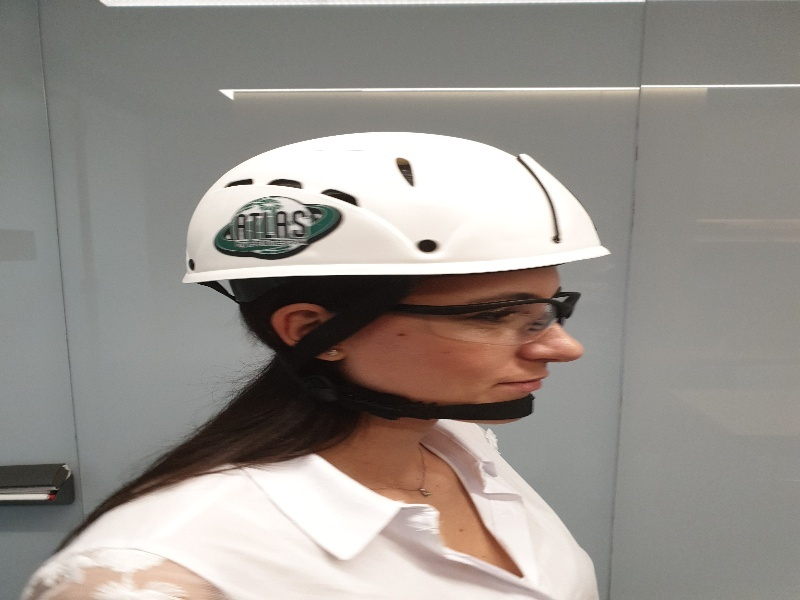Baret: (186, 147, 628, 279)
Gozluk: (354, 292, 619, 341)
